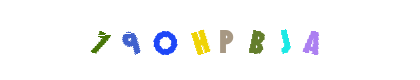7: (95, 0, 175, 80)
9: (125, 0, 205, 80)
A: (245, 0, 325, 80)
B: (178, 0, 258, 80)
H: (160, 0, 240, 80)
J: (238, 0, 318, 80)
O: (159, 0, 239, 80)
P: (170, 0, 250, 80)
